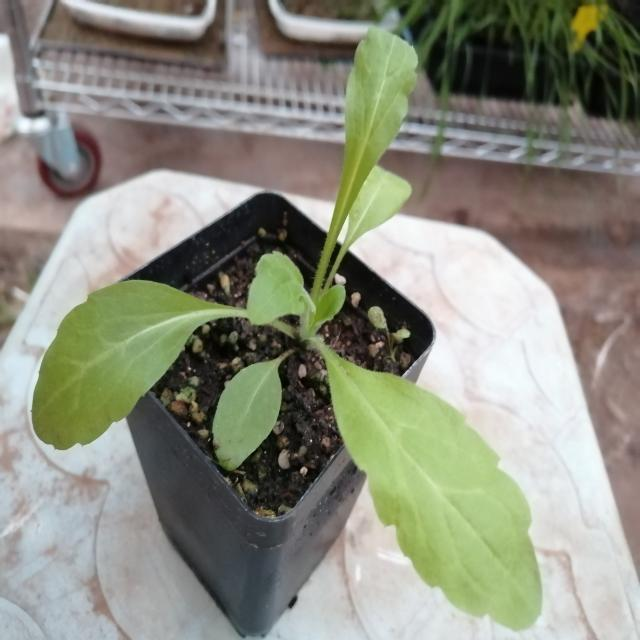horseweed: (60, 54, 524, 611)
